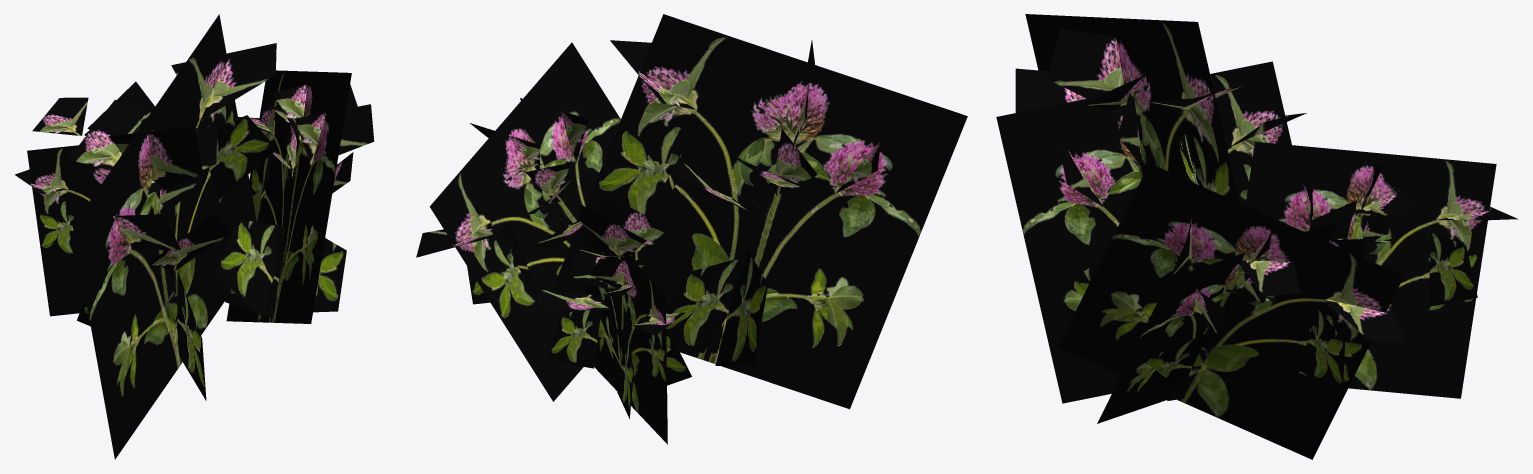
The model's file is 19_trifolium_pratense_small_001.fbx.
The picture shows the model from 3 angles, left to right: view 1: azimuth 30°, elevation 25°; view 2: azimuth 150°, elevation 25°; view 3: azimuth 270°, elevation 25°; orthographic projection. The views are drawn at different scales.
Visible parts, largest first — view 1: 19_trifolium_pratense_small.001; view 2: 19_trifolium_pratense_small.001; view 3: 19_trifolium_pratense_small.001.
Part boxes in pixels (x1,y1,x2,y2): 19_trifolium_pratense_small.001: [15, 14, 374, 459]; 19_trifolium_pratense_small.001: [416, 14, 967, 444]; 19_trifolium_pratense_small.001: [996, 14, 1518, 459].
Size of the model in its own units: 0.081 by 0.0768 by 0.0839.
